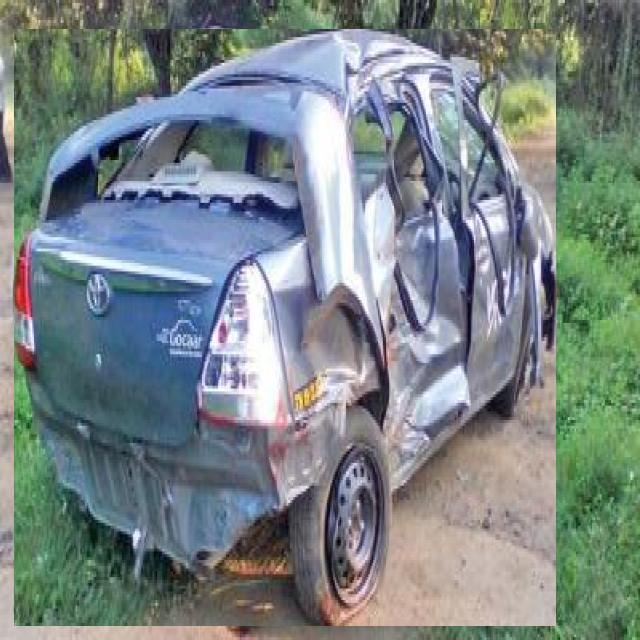accident: (14, 29, 556, 626)
